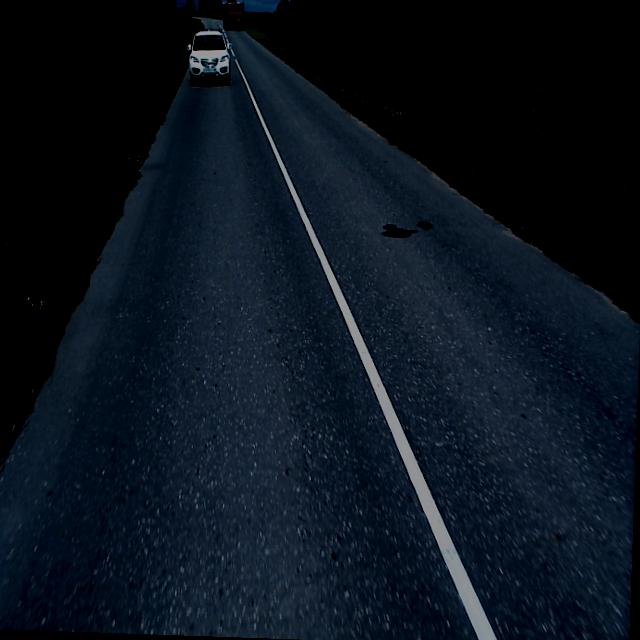road: (0, 17, 640, 640)
